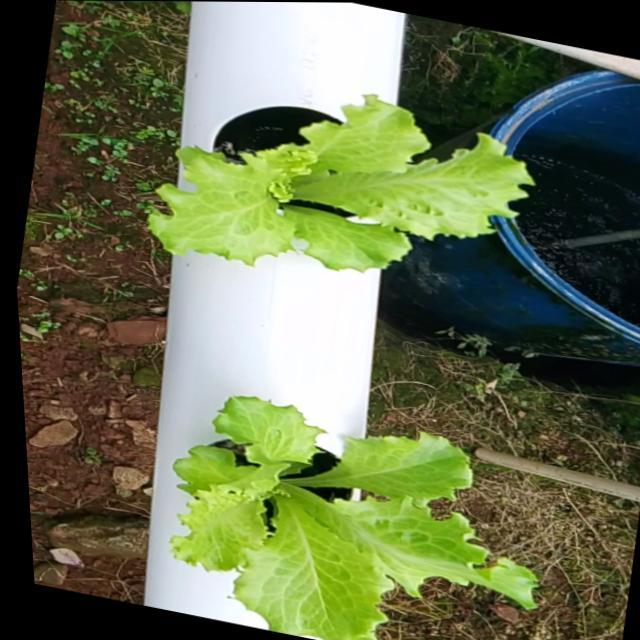Baby: (171, 387, 541, 640), (158, 82, 549, 261)
